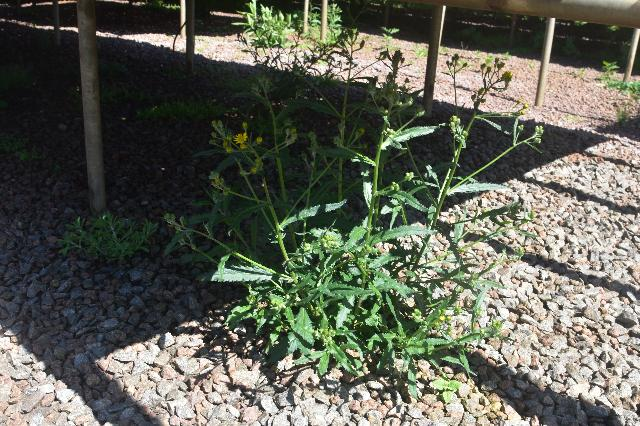MalezaMontesDelPlata: (160, 1, 546, 412), (55, 201, 162, 266), (132, 87, 234, 129), (0, 130, 57, 170), (0, 55, 37, 92)
